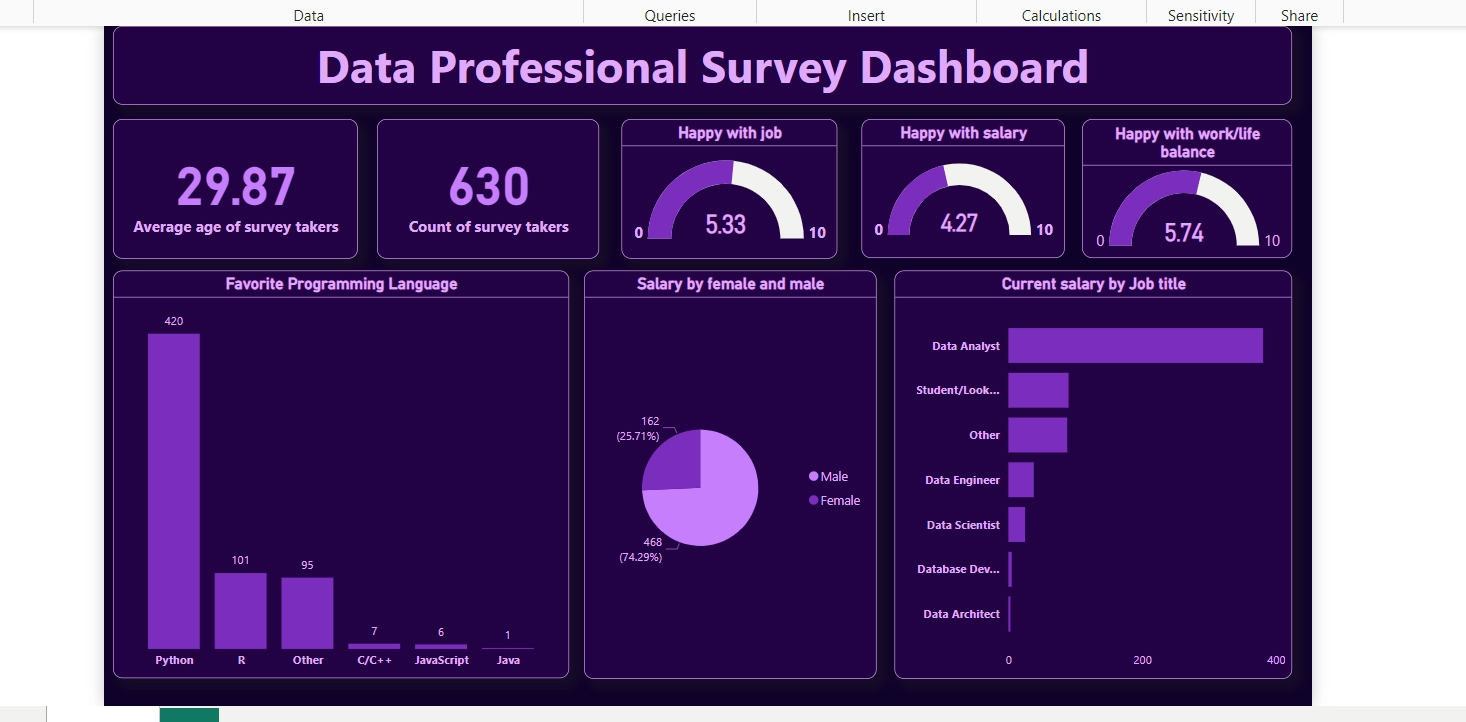

This screenshot's page, from the dashboard's own definition file:
{"tool":"powerbi","page":{"name":"Page 1","canvas":[1280,720],"ordinal":0},"visuals":[{"type":"textbox","box":[9.4,0,1249.1,83.2],"z":0},{"type":"card","fields":{"Values":["CountNonNull(Data Professional Survey.Unique ID)"]},"box":[289.3,98.5,235.2,147.8],"z":1},{"type":"card","fields":{"Values":["Avg(Data Professional Survey.Q10 - Current Age)"]},"box":[9.5,98.5,259.1,147.8],"z":2},{"type":"clusteredBarChart","fields":{"Y":["CountNonNull(Data Professional Survey.Q3 - Current Yearly Salary (in USD))"],"Category":["Data Professional Survey.Q1 - Which Title Best Fits your Current Role?.1"]},"box":[837.2,258.9,421.4,432.8],"z":3},{"type":"clusteredColumnChart","title":" Favorite Programming Language","fields":{"Y":["CountNonNull(Data Professional Survey.Unique ID)"],"Category":["Data Professional Survey.Q5 - Favorite Programming Language.1"]},"box":[9.5,259.1,483.2,432.3],"z":4},{"type":"gauge","title":"Happy with work/life balance","fields":{"Y":["Avg(Data Professional Survey.Q6 - How Happy are you in your Current Position with the following? (Work/Life Balance))"],"MinValue":["Min(Data Professional Survey.Q6 - How Happy are you in your Current Position with the following? (Work/Life Balance))"],"MaxValue":["Max(Data Professional Survey.Q6 - How Happy are you in your Current Position with the following? (Work/Life Balance))1"]},"box":[1035.6,98.3,223,147.4],"z":6},{"type":"gauge","title":"Happy with salary","fields":{"Y":["Avg(Data Professional Survey.Q6 - How Happy are you in your Current Position with the following? (Salary))"],"MinValue":["Min(Data Professional Survey.Q6 - How Happy are you in your Current Position with the following? (Salary))"],"MaxValue":["Max(Data Professional Survey.Q6 - How Happy are you in your Current Position with the following? (Salary))1"]},"box":[803.2,98.3,215.4,147.4],"z":7},{"type":"pieChart","title":"Salary by female and male","fields":{"Category":["Data Professional Survey.Q9 - Male/Female?"],"Y":["CountNonNull(Data Professional Survey.Q3 - Current Yearly Salary (in USD))"]},"box":[508.4,258.9,309.9,432.8],"z":8},{"type":"gauge","title":"Happy with job","fields":{"Y":["Avg(Data Professional Survey.Q6 - How Happy are you in your Current Position with the following? (Management))"],"MinValue":["Min(Data Professional Survey.Q6 - How Happy are you in your Current Position with the following? (Management))"],"MaxValue":["Max(Data Professional Survey.Q6 - How Happy are you in your Current Position with the following? (Management))"]},"box":[548.3,98.5,228.9,147.8],"z":9}]}

Visuals, with their boxes in screenshot pixels (x1, y1, x2, y2):
textbox: (left=74, top=19, right=1309, bottom=101)
card - CountNonNull(Data Professional Survey.Unique ID): (left=351, top=116, right=583, bottom=263)
card - Avg(Data Professional Survey.Q10 - Current Age): (left=74, top=116, right=330, bottom=263)
clusteredBarChart - CountNonNull(Data Professional Survey.Q3 - Current Yearly Salary (in USD)) x Data Professional Survey.Q1 - Which Title Best Fits your Current Role?.1: (left=892, top=275, right=1309, bottom=703)
" Favorite Programming Language" clusteredColumnChart: (left=74, top=275, right=552, bottom=702)
"Happy with work/life balance" gauge: (left=1088, top=116, right=1309, bottom=262)
"Happy with salary" gauge: (left=859, top=116, right=1072, bottom=262)
"Salary by female and male" pieChart: (left=567, top=275, right=874, bottom=703)
"Happy with job" gauge: (left=607, top=116, right=833, bottom=263)
